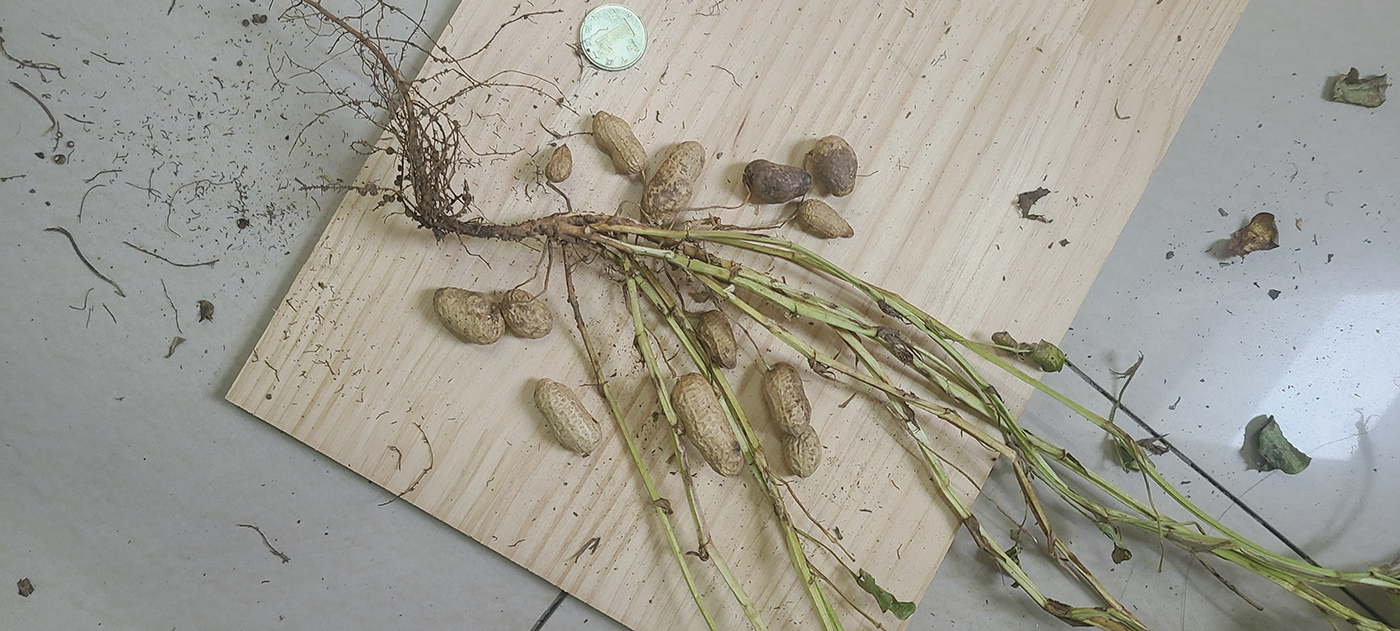h: (670, 374, 746, 476), (760, 361, 823, 476), (643, 143, 706, 228), (536, 380, 602, 456), (435, 286, 504, 346), (592, 107, 648, 179), (694, 310, 739, 371), (502, 287, 554, 339), (796, 198, 855, 240)
l: (743, 157, 812, 202), (813, 137, 859, 197)
